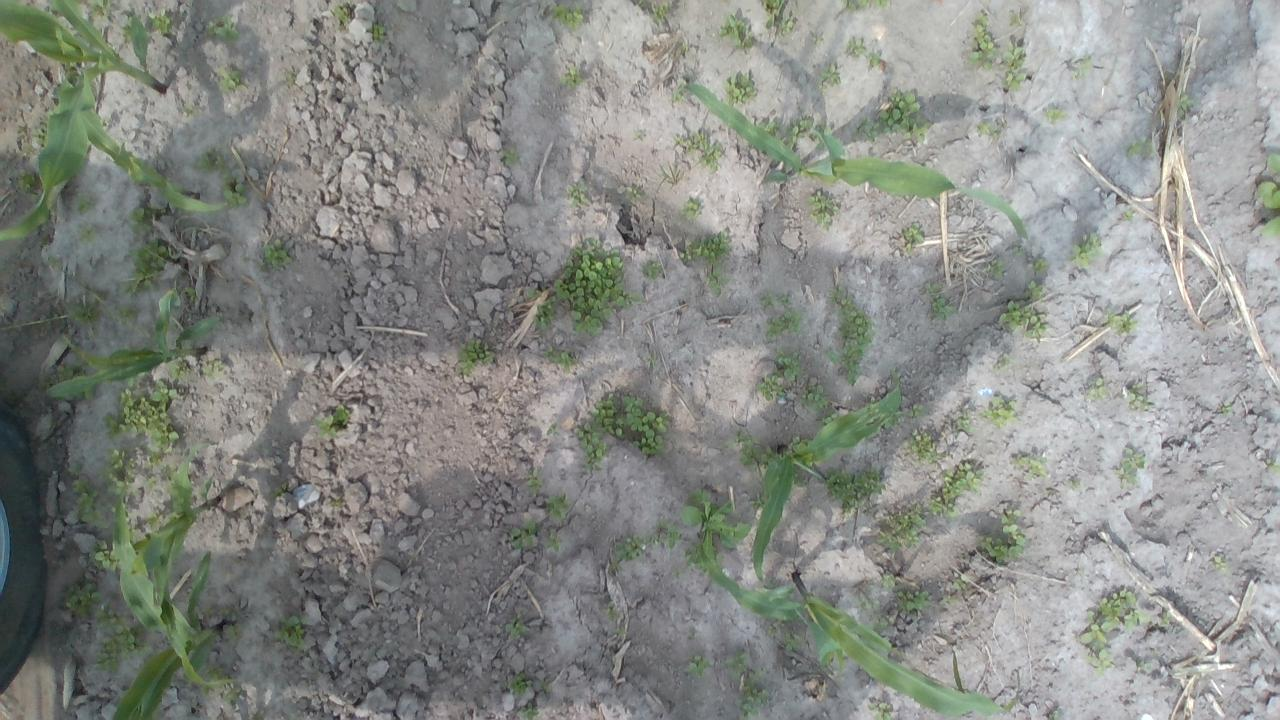Maize: (707, 534, 1006, 718), (677, 84, 1032, 237), (0, 0, 166, 243), (753, 369, 901, 580), (98, 481, 225, 720), (118, 443, 236, 686), (61, 67, 228, 216), (43, 289, 218, 396)
Weeds: (552, 236, 642, 336), (678, 489, 752, 568), (103, 370, 180, 445), (824, 288, 873, 386), (1079, 588, 1148, 646), (926, 461, 987, 520), (876, 86, 932, 143), (622, 394, 672, 456), (824, 466, 887, 514), (976, 510, 1028, 564), (120, 237, 170, 293), (94, 626, 154, 672), (874, 500, 927, 552), (962, 12, 999, 72), (70, 479, 114, 529), (722, 430, 774, 472), (98, 446, 140, 496), (998, 298, 1048, 340), (1256, 153, 1280, 237), (678, 228, 731, 266), (734, 670, 772, 720), (572, 425, 607, 475), (63, 576, 104, 618), (804, 188, 841, 234), (271, 612, 313, 650), (454, 338, 494, 376), (589, 393, 623, 437), (1066, 232, 1106, 269), (906, 428, 944, 466), (718, 14, 756, 52), (312, 406, 352, 441), (1000, 42, 1028, 92), (543, 0, 586, 32), (924, 282, 958, 322), (980, 395, 1019, 429), (764, 310, 804, 343), (1115, 446, 1146, 487), (723, 70, 757, 106), (257, 238, 293, 271), (196, 660, 228, 697), (40, 362, 83, 389), (1101, 307, 1140, 336), (696, 133, 724, 173), (88, 539, 119, 574), (614, 534, 652, 562), (540, 346, 578, 374), (205, 13, 240, 43), (222, 172, 250, 209), (782, 115, 814, 147), (1124, 382, 1156, 414), (1012, 450, 1048, 478), (64, 298, 100, 326), (15, 167, 43, 202), (653, 516, 683, 548), (756, 372, 786, 404), (544, 492, 572, 526), (799, 384, 830, 414), (128, 204, 158, 235), (1122, 137, 1158, 162), (508, 520, 538, 550), (216, 65, 248, 92), (192, 146, 225, 172), (775, 350, 803, 380), (899, 222, 926, 253), (142, 443, 174, 469), (704, 266, 730, 298), (850, 115, 880, 142), (684, 656, 716, 681), (532, 296, 556, 329), (1082, 648, 1114, 672), (896, 592, 934, 612), (854, 585, 881, 612), (724, 650, 752, 676), (504, 610, 530, 638), (506, 672, 534, 698), (148, 8, 174, 36), (760, 0, 784, 30), (332, 0, 355, 31), (116, 12, 138, 43), (950, 411, 976, 437), (1070, 52, 1096, 78), (566, 178, 590, 206), (1082, 377, 1108, 402), (557, 66, 584, 90), (816, 63, 840, 90), (811, 121, 832, 151), (200, 354, 226, 378), (866, 616, 896, 636), (640, 259, 665, 283), (759, 292, 794, 309), (867, 699, 895, 720), (57, 387, 96, 402), (782, 629, 806, 653), (199, 602, 231, 620), (76, 224, 100, 248), (524, 468, 546, 494), (1022, 280, 1048, 302), (776, 12, 798, 38), (74, 190, 95, 217), (1178, 92, 1198, 120), (680, 200, 703, 224), (880, 409, 906, 430), (790, 463, 809, 491), (672, 133, 698, 153), (166, 358, 192, 378), (88, 0, 116, 18), (112, 304, 140, 322), (369, 22, 389, 47), (163, 464, 179, 495), (755, 120, 779, 140), (94, 608, 116, 629), (519, 700, 541, 720), (844, 38, 866, 58), (652, 2, 672, 24), (1044, 107, 1071, 123), (520, 288, 546, 304), (814, 413, 841, 428), (544, 532, 564, 552), (988, 258, 1006, 280), (974, 121, 998, 137), (951, 570, 970, 590), (501, 147, 523, 164), (126, 515, 138, 546), (765, 619, 784, 638), (624, 186, 644, 204), (268, 482, 288, 500), (224, 622, 241, 643), (784, 434, 806, 450), (881, 572, 898, 592), (145, 509, 161, 530), (839, 0, 869, 11), (1212, 554, 1228, 574), (604, 602, 620, 622), (184, 284, 200, 303), (539, 679, 556, 696), (608, 556, 624, 574), (748, 492, 764, 509), (144, 476, 160, 493), (909, 402, 926, 418), (994, 357, 1010, 374), (670, 87, 687, 103), (224, 686, 242, 701), (869, 50, 882, 70), (1263, 457, 1280, 472), (1158, 608, 1172, 626), (44, 256, 62, 270), (1034, 258, 1050, 273), (1220, 400, 1234, 416), (1007, 10, 1021, 24), (670, 568, 686, 580), (872, 0, 892, 9), (69, 463, 82, 476), (184, 105, 199, 116), (630, 0, 648, 9), (284, 71, 296, 84), (1070, 479, 1083, 491), (328, 499, 345, 508), (1122, 210, 1134, 220), (1048, 710, 1060, 720), (634, 130, 646, 140), (616, 627, 628, 637), (1013, 245, 1023, 257), (811, 36, 823, 46), (681, 42, 691, 52), (547, 424, 557, 434)
